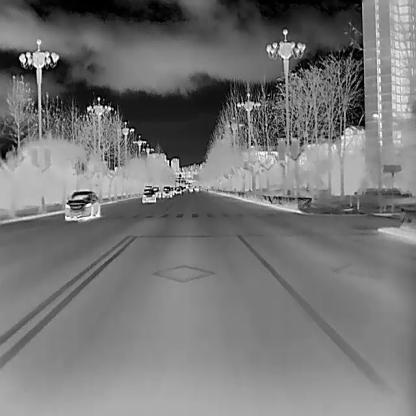car: (64, 190, 100, 218), (142, 189, 155, 203), (162, 186, 172, 198), (152, 186, 161, 199), (174, 186, 181, 194)
